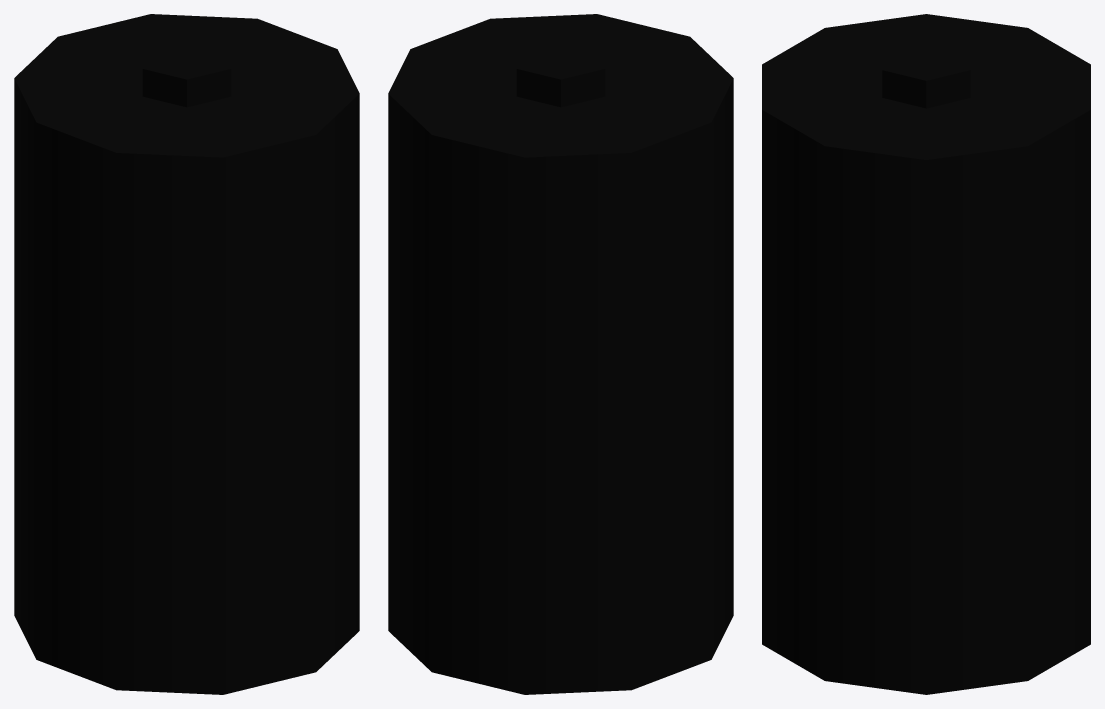
File: SM_battery.fbx
The picture shows the model from 3 angles, left to right: view 1: azimuth 30°, elevation 25°; view 2: azimuth 150°, elevation 25°; view 3: azimuth 270°, elevation 25°; orthographic projection.
Visible parts, largest first — view 1: battery; view 2: battery; view 3: battery.
Part boxes in pixels (box(x1,y1,x2,y2)): battery: box(14, 14, 359, 694); battery: box(388, 14, 733, 694); battery: box(762, 14, 1090, 694).
Size of the model in its own units: 0.034 by 0.061 by 0.0323.
